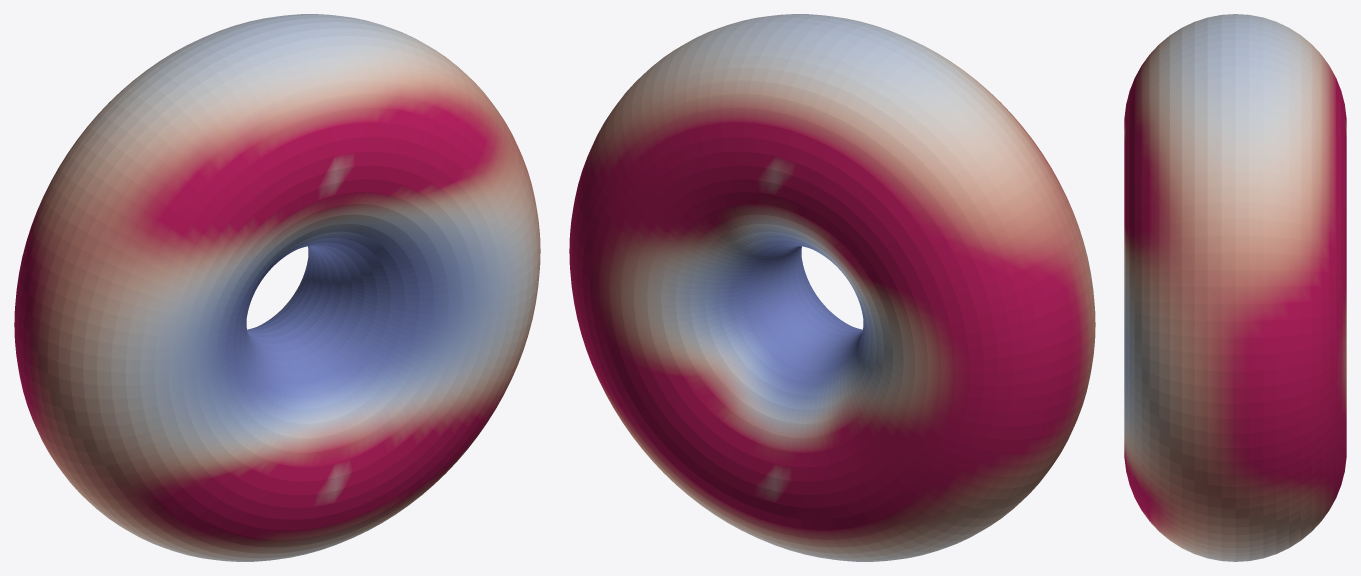
3 renders of one model, left to right at view 1: azimuth 30°, elevation 25°; view 2: azimuth 150°, elevation 25°; view 3: azimuth 270°, elevation 25°, orthographic. The views are drawn at different scales.
Visible parts, largest first — view 1: world; view 2: world; view 3: world.
Part boxes in pixels (bbox=[...]): world: bbox=[14, 14, 540, 561]; world: bbox=[569, 14, 1095, 561]; world: bbox=[1124, 14, 1346, 561].
Size of the model in its own units: 21.33 by 21.33 by 8.65.
